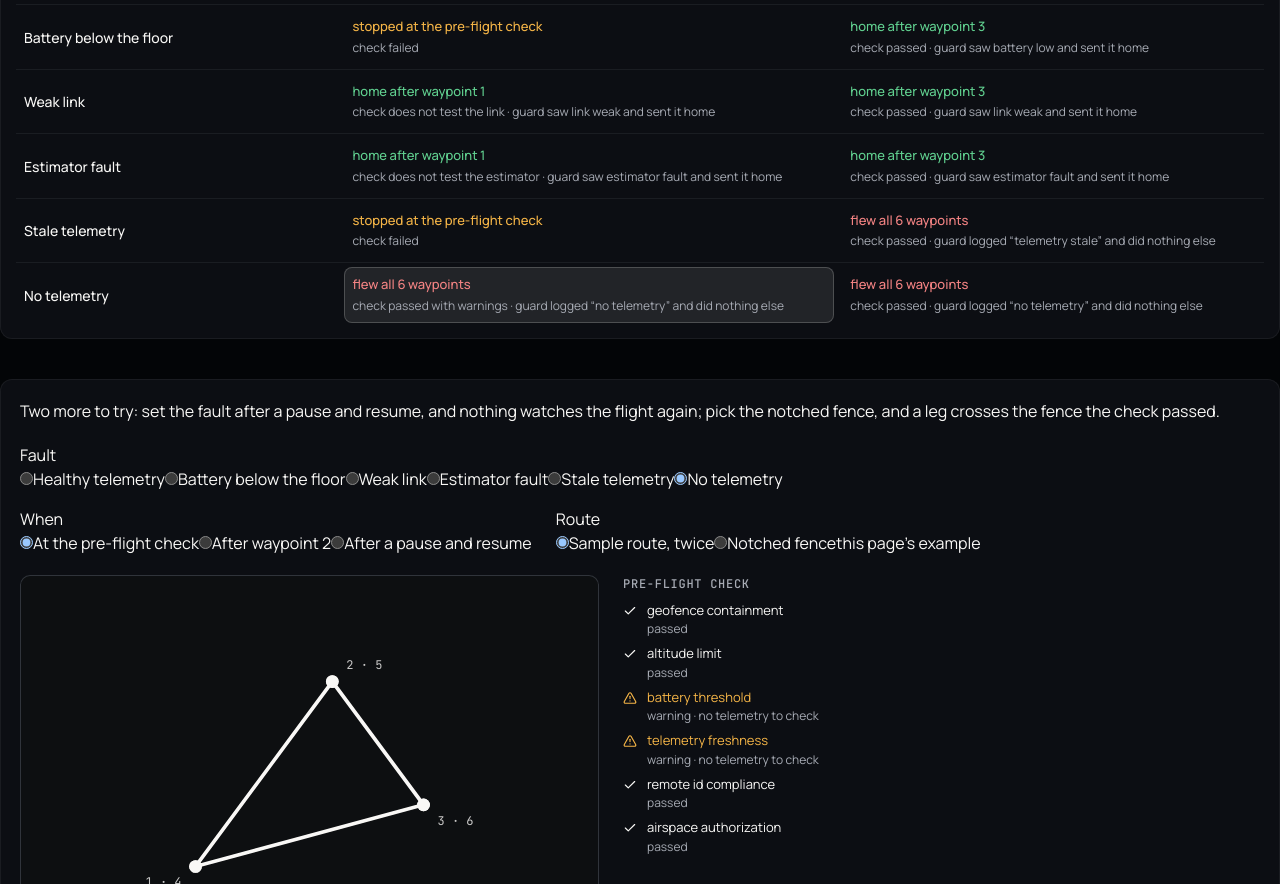
it: mission demo, after live QA › says a fault after a pause and resume begins with nothing left to see it
(page scrolled)
Click the radio button labelled "Battery below the floor": x=172, y=478 top-left (165, 472), bottom-right (178, 485)
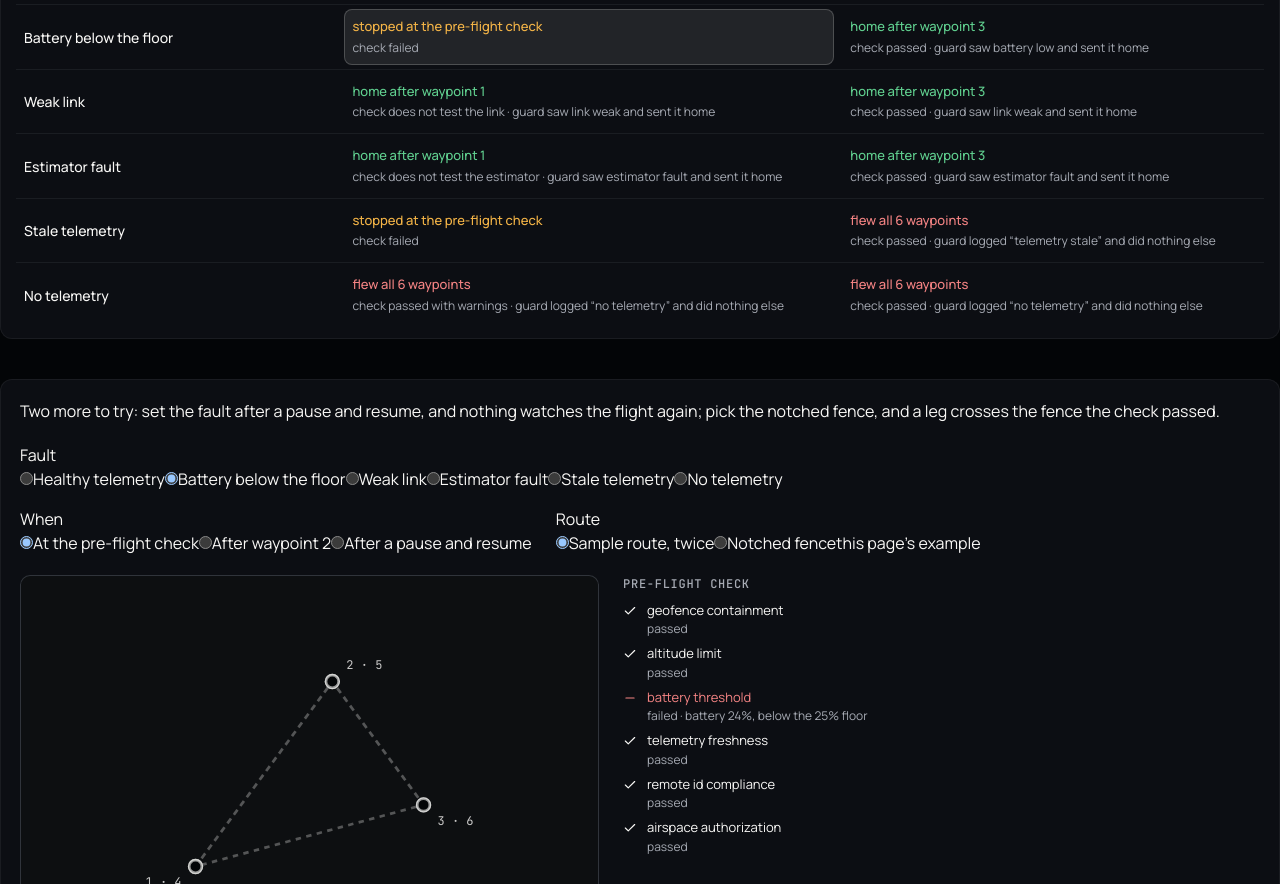
Click the radio button labelled "After a pause and resume": x=338, y=542 top-left (331, 536), bottom-right (344, 549)
(page scrolled)
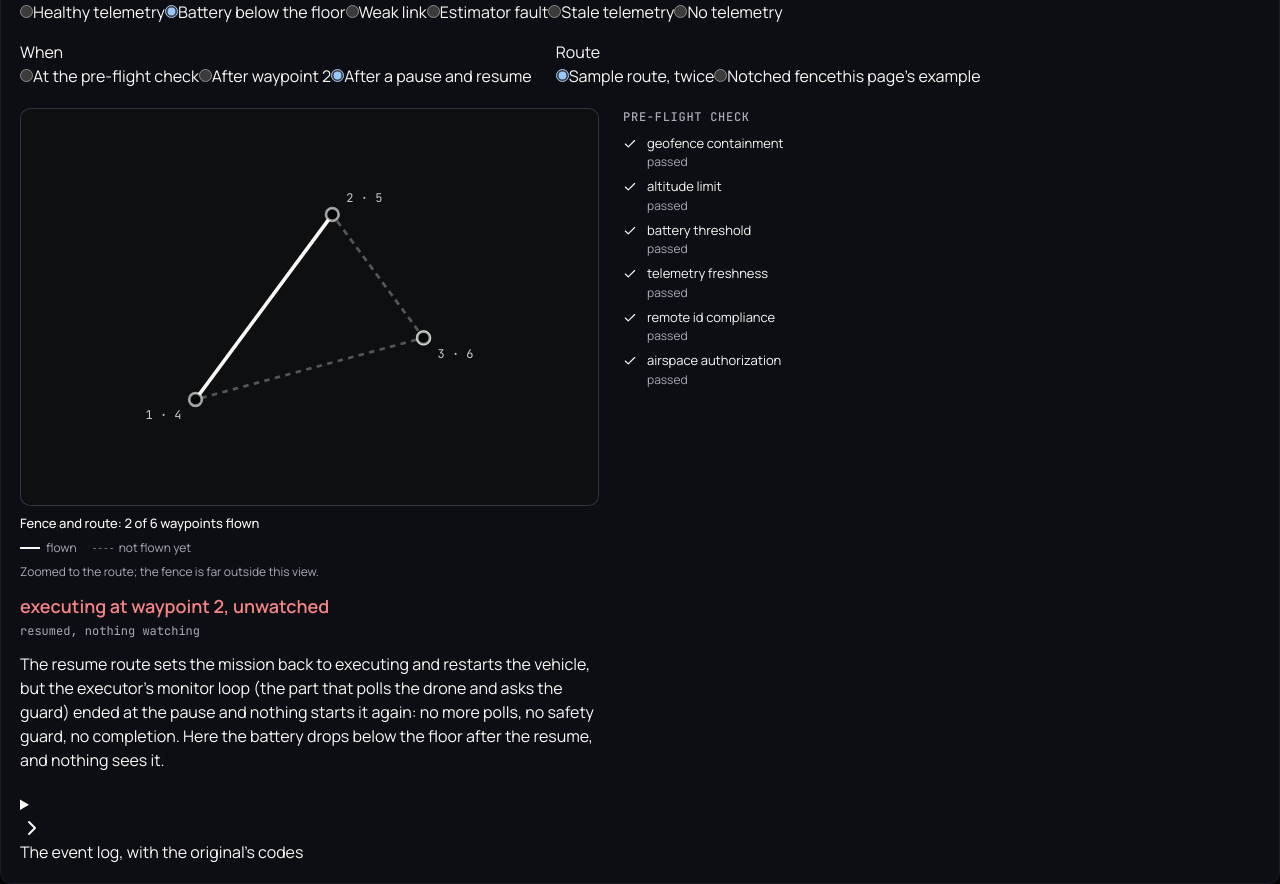
Expected: the text "the battery drops below the floor after the resume, and nothing sees it" is shown, top-left (20, 726), bottom-right (593, 772)
